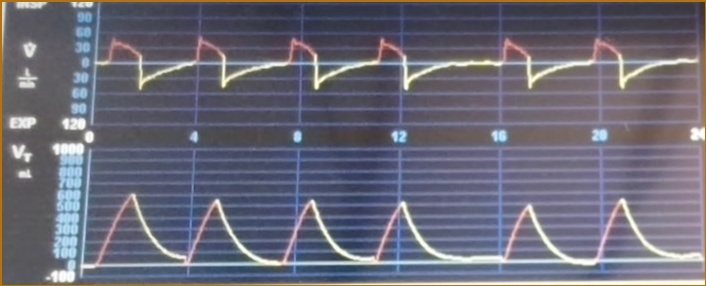Normal Flow: (99, 17, 697, 116)
Normal Volume: (89, 183, 701, 271)
